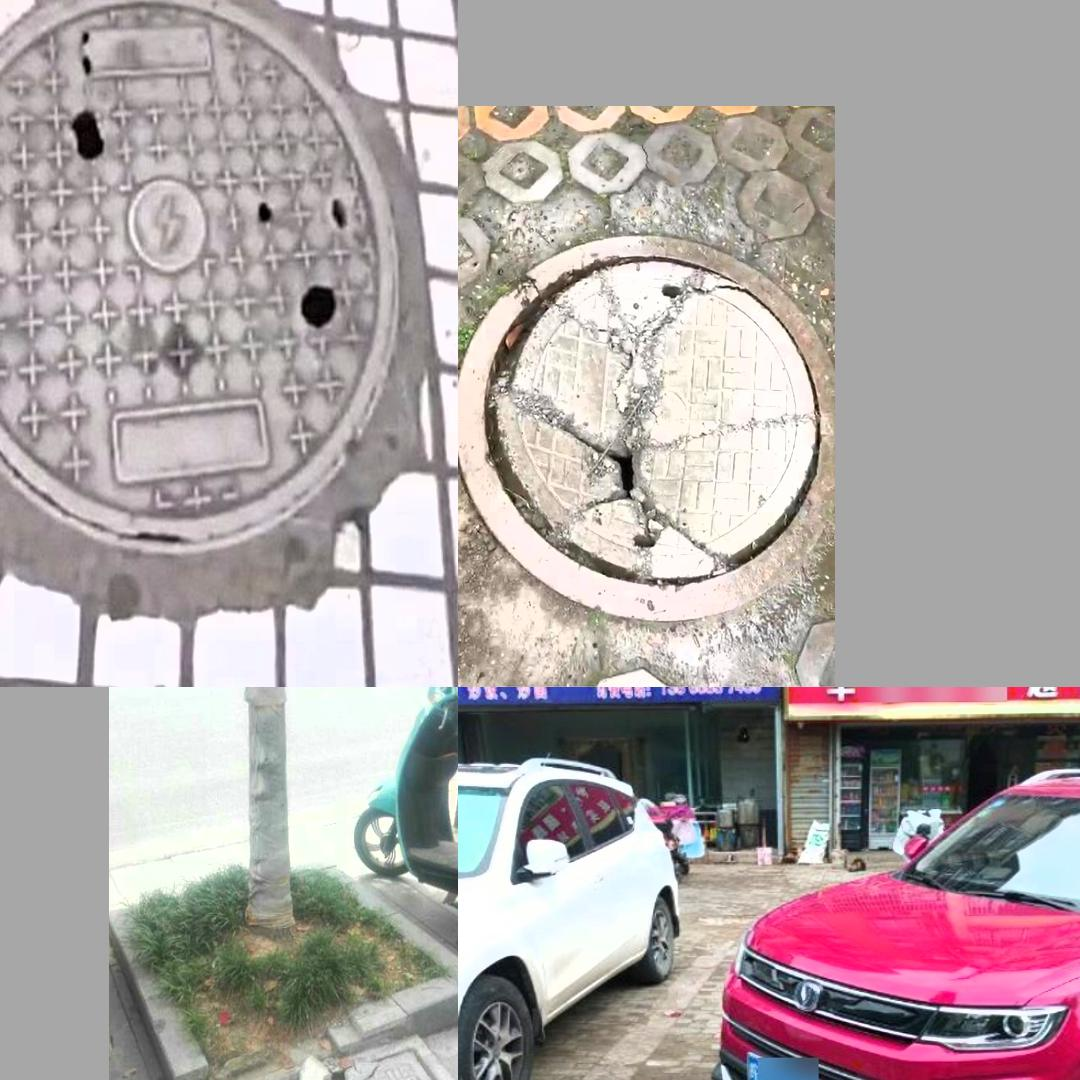broke: (0, 0, 401, 557), (465, 241, 822, 625), (201, 1046, 457, 1080)
